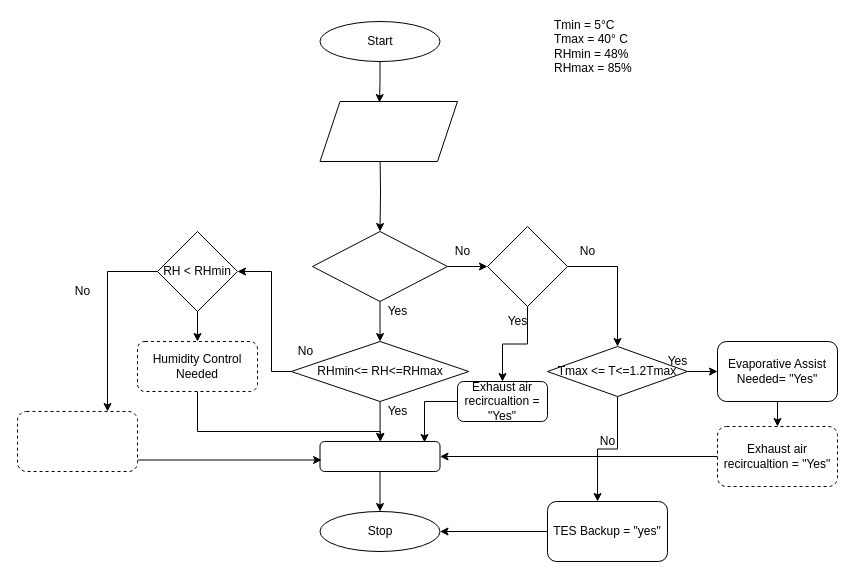
Image size: 855x579. Some labels were removed from this diagram. The centre of each missing label's shape, as x and y in pixels:
DASFC = "Yes": pixel 379 456
Exhaust Air Recirculation= "Yes": pixel 77 441
T < Tmin: pixel 527 266
T and RH predictions from ML model: pixel 388 131
Tmin <= T<=0.80Tmax: pixel 380 266
